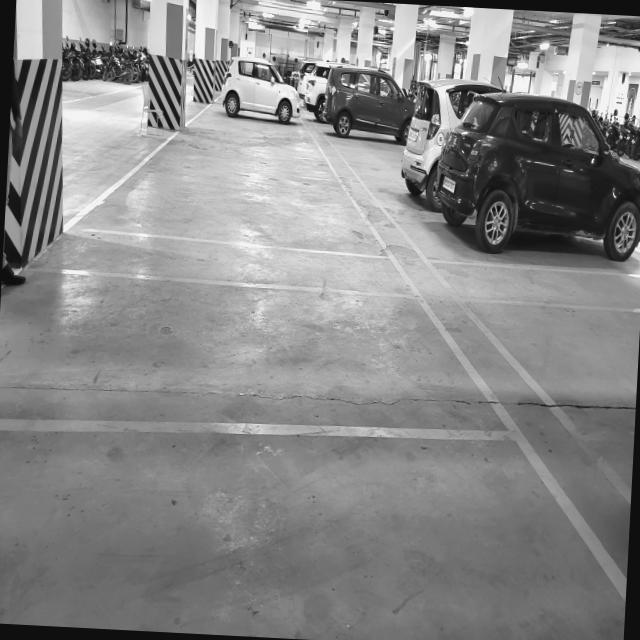space-empty: (345, 424, 579, 628), (118, 273, 366, 432), (528, 289, 640, 411), (159, 184, 316, 246)
space-occupied: (433, 184, 615, 258)
